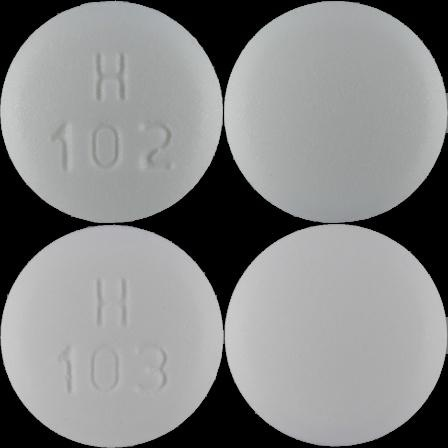23155-102: (0, 0, 224, 224)
